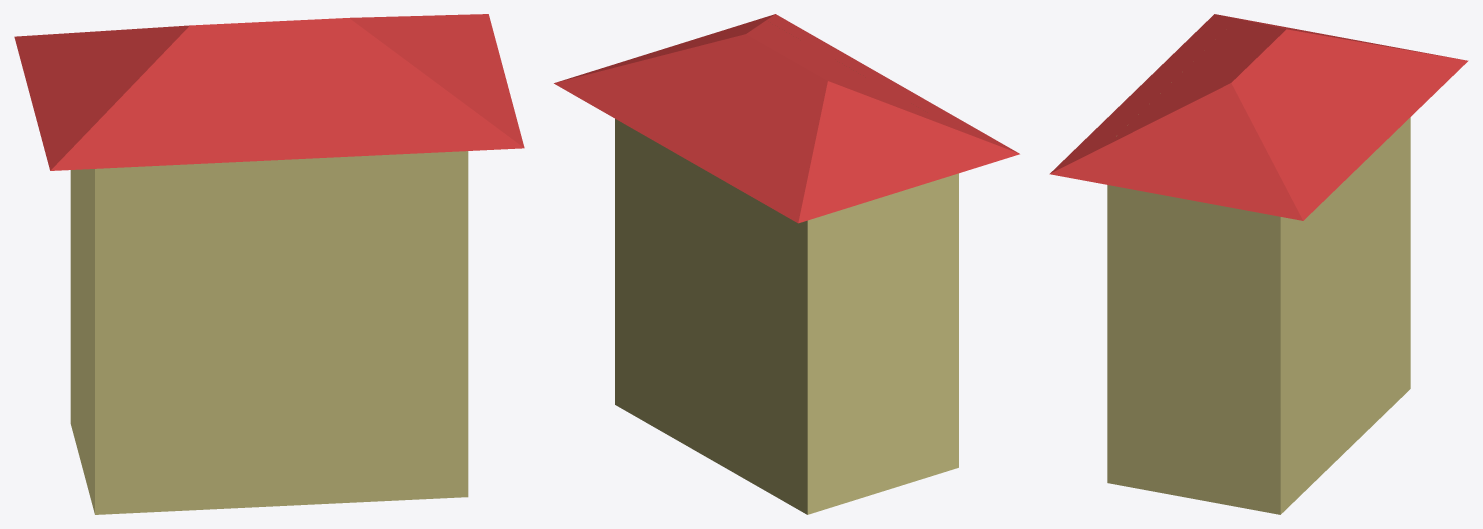
3 views of the same model, side by side, from view 1: azimuth 30°, elevation 25°; view 2: azimuth 150°, elevation 25°; view 3: azimuth 270°, elevation 25° (orthographic). The views are drawn at different scales.
Bounding box in the file's own units: 8.34 × 7.14 × 7.14.
